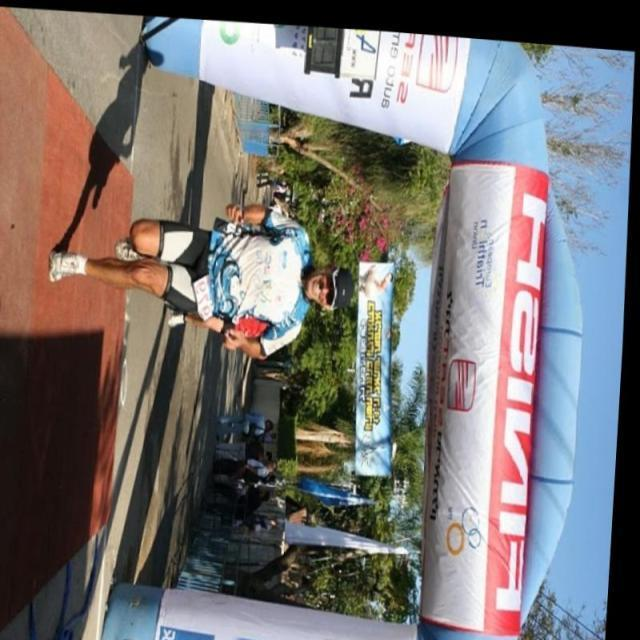dorsal: (192, 263, 222, 320)
